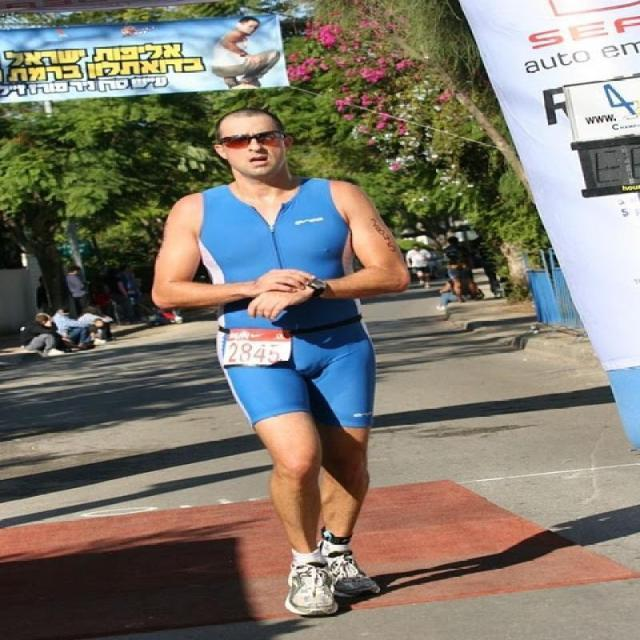dorsal: (221, 324, 299, 368)
